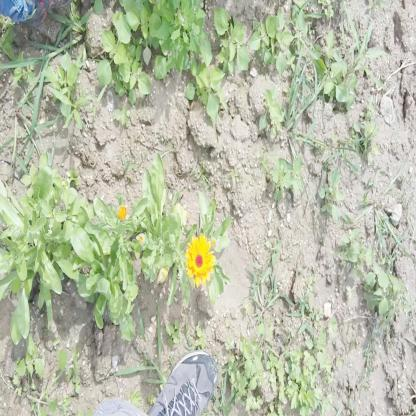marigold: (185, 235, 212, 284)
